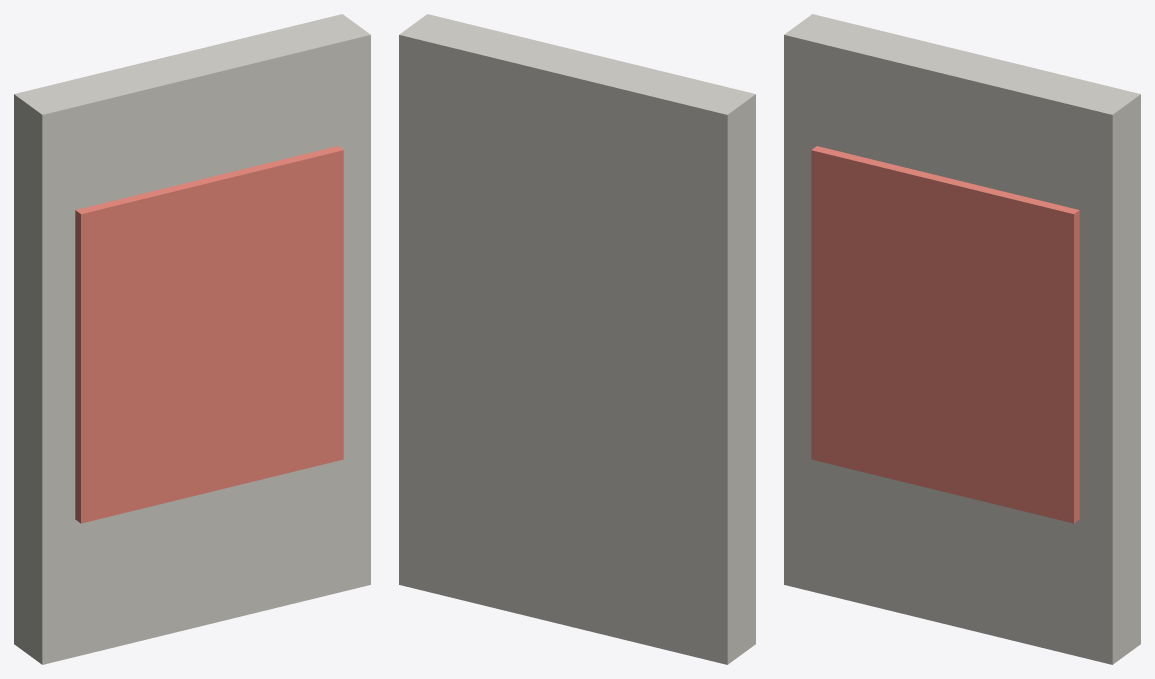
Rendered from seed_packet_tomato.glb.
3 views of the same model, side by side, from view 1: azimuth 30°, elevation 25°; view 2: azimuth 150°, elevation 25°; view 3: azimuth 330°, elevation 25° (orthographic).
Parts seen in each view (by area): view 1: SeedPacketTomato; view 2: SeedPacketTomato; view 3: SeedPacketTomato.
Boxes of the visible parts, box(x1,y1,x2,y2) form: SeedPacketTomato: box(14, 14, 370, 664); SeedPacketTomato: box(399, 14, 755, 664); SeedPacketTomato: box(784, 14, 1140, 664).
Size of the model in its own units: 0.1 by 0.16 by 0.018.
